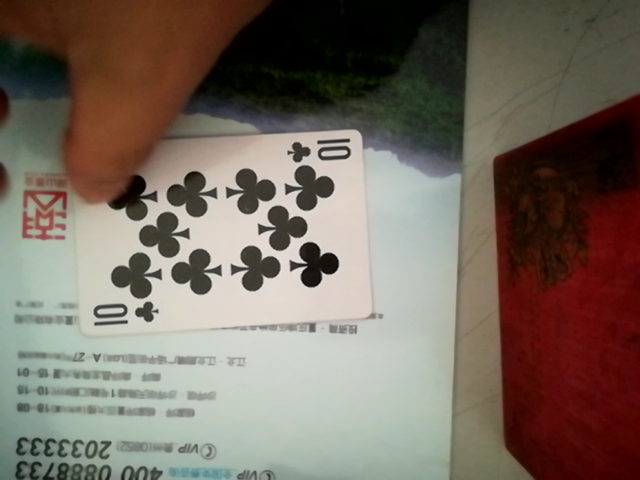mh 10: (66, 127, 379, 335)
